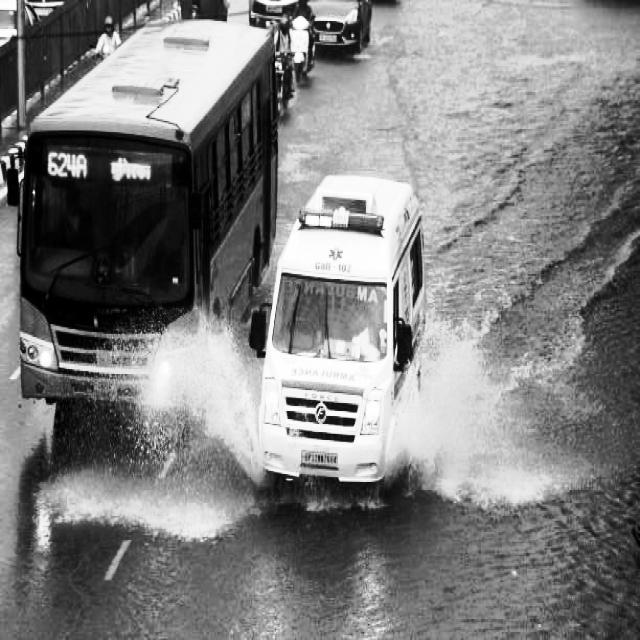Ambulance: (262, 171, 427, 486), (296, 200, 386, 276), (284, 261, 381, 324)
